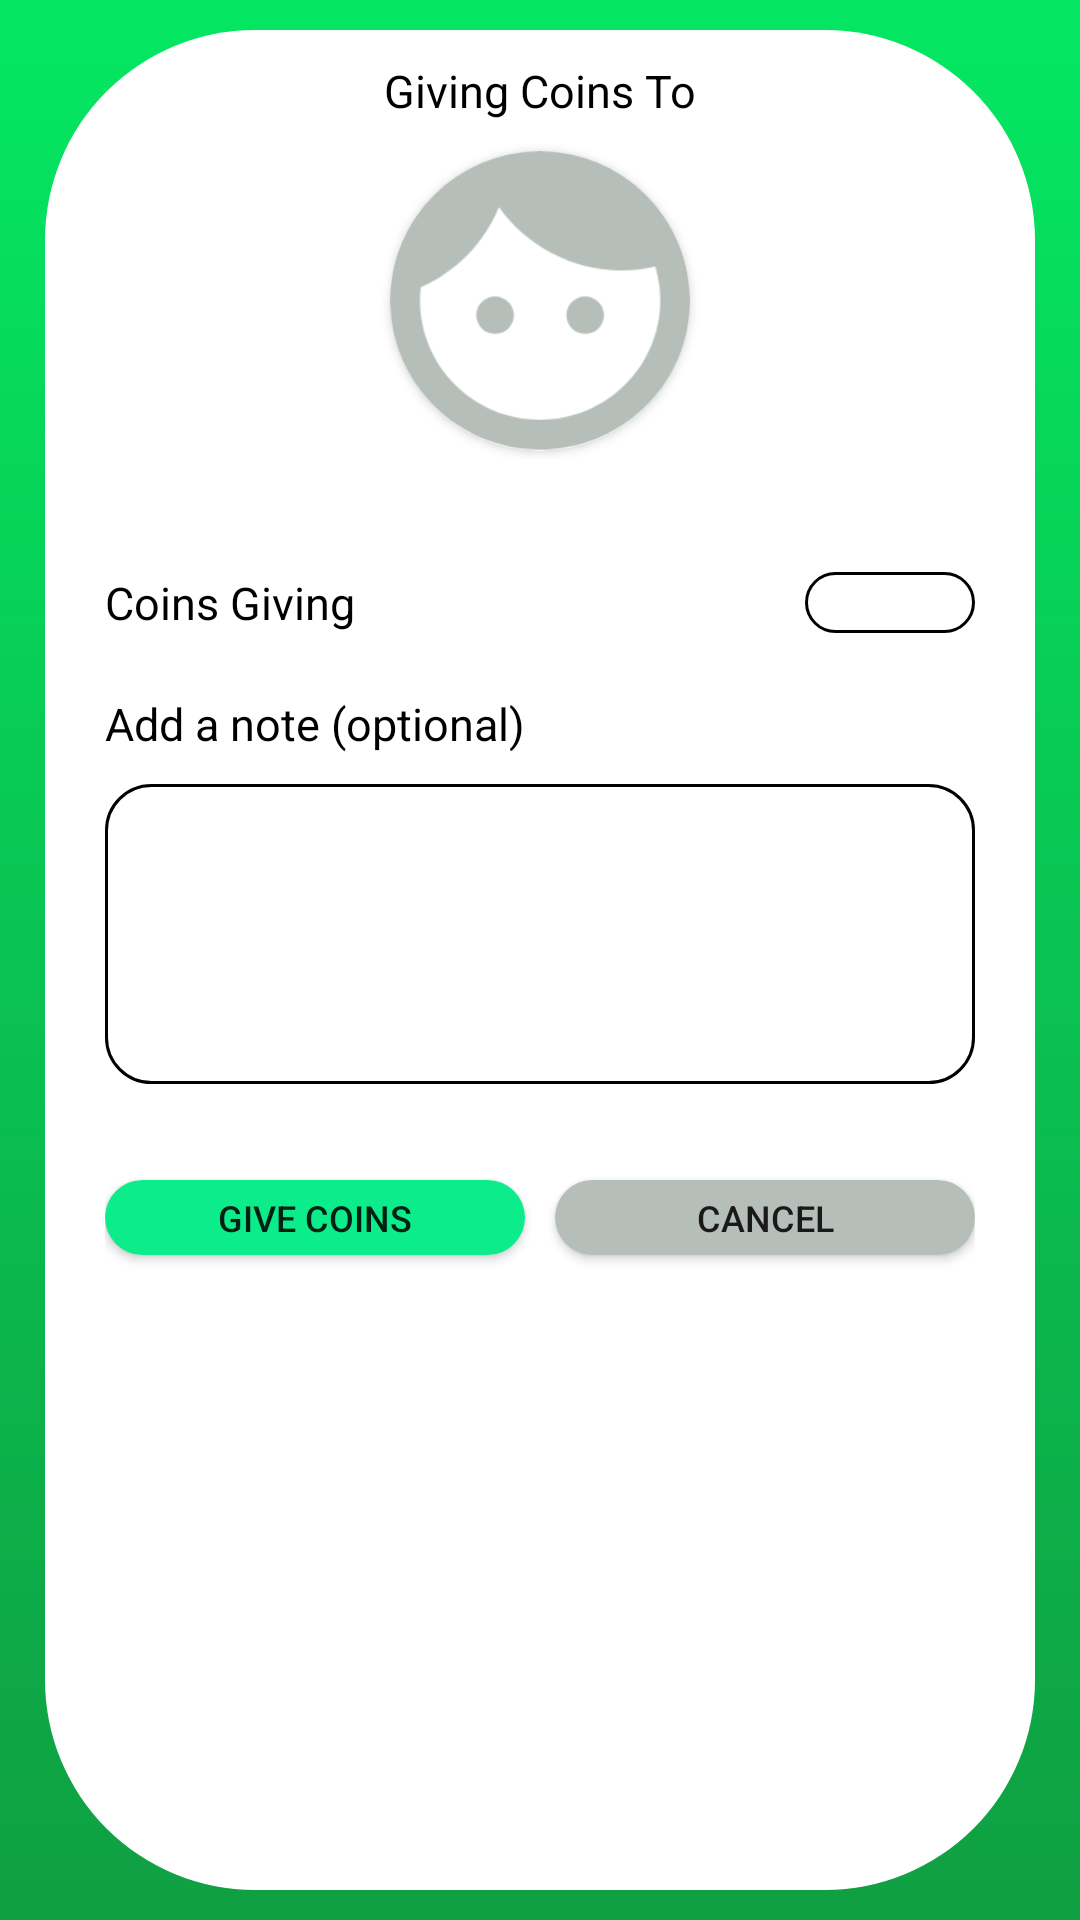

Named icons in this screenshot (1080px x 1920px) and their bounding boxes, (x1, y1, x2, y2):
User profile picture: (390, 151, 690, 451)
